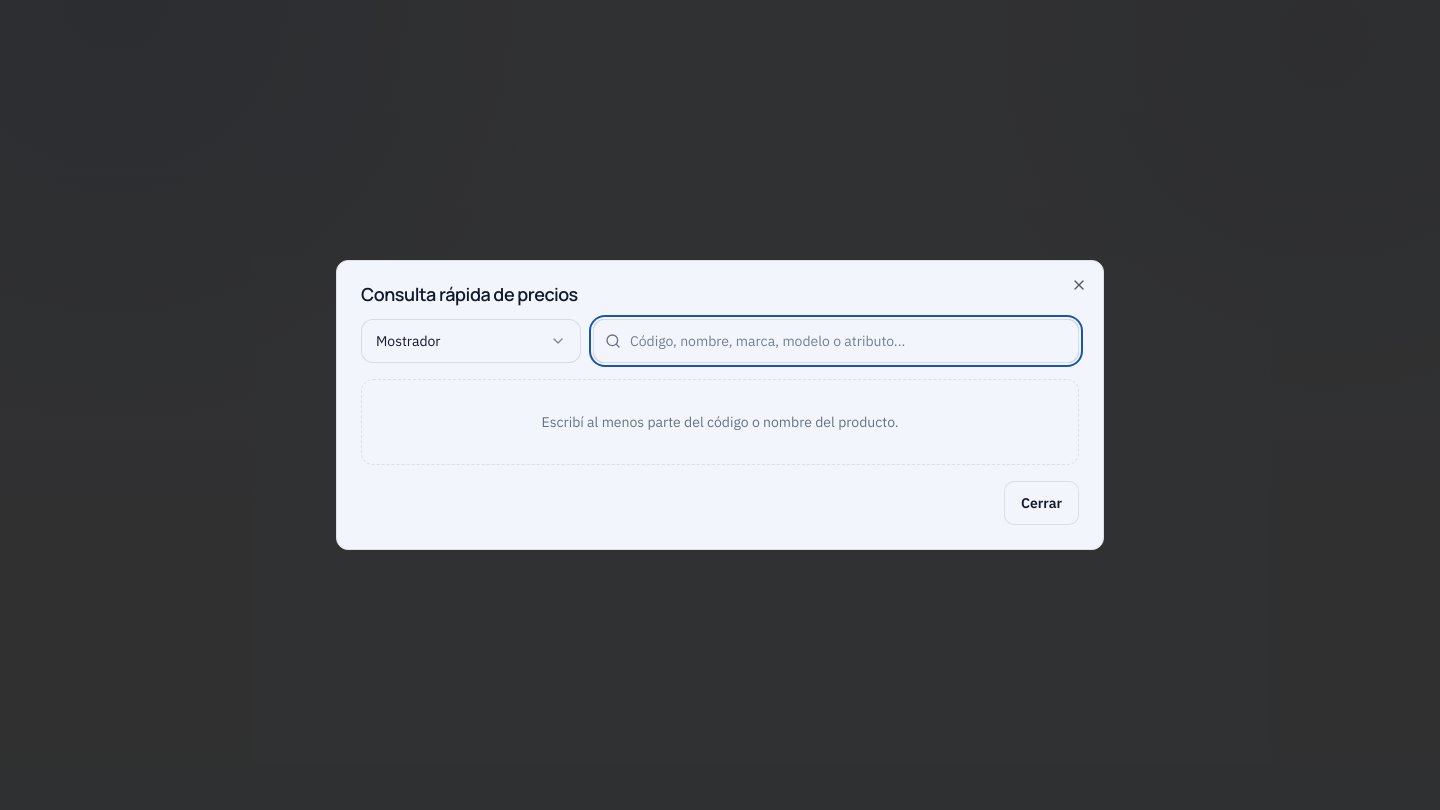
QuickPriceConsultationDialog › only shows matching products from the selected list with operational data
Expected: the text "Escribí al menos parte del código o nombre del producto." is shown, [361,379,1079,465]
Type "COR-001" into the field named "Buscar producto para consultar" at (836, 341), box [593,319,1079,363]
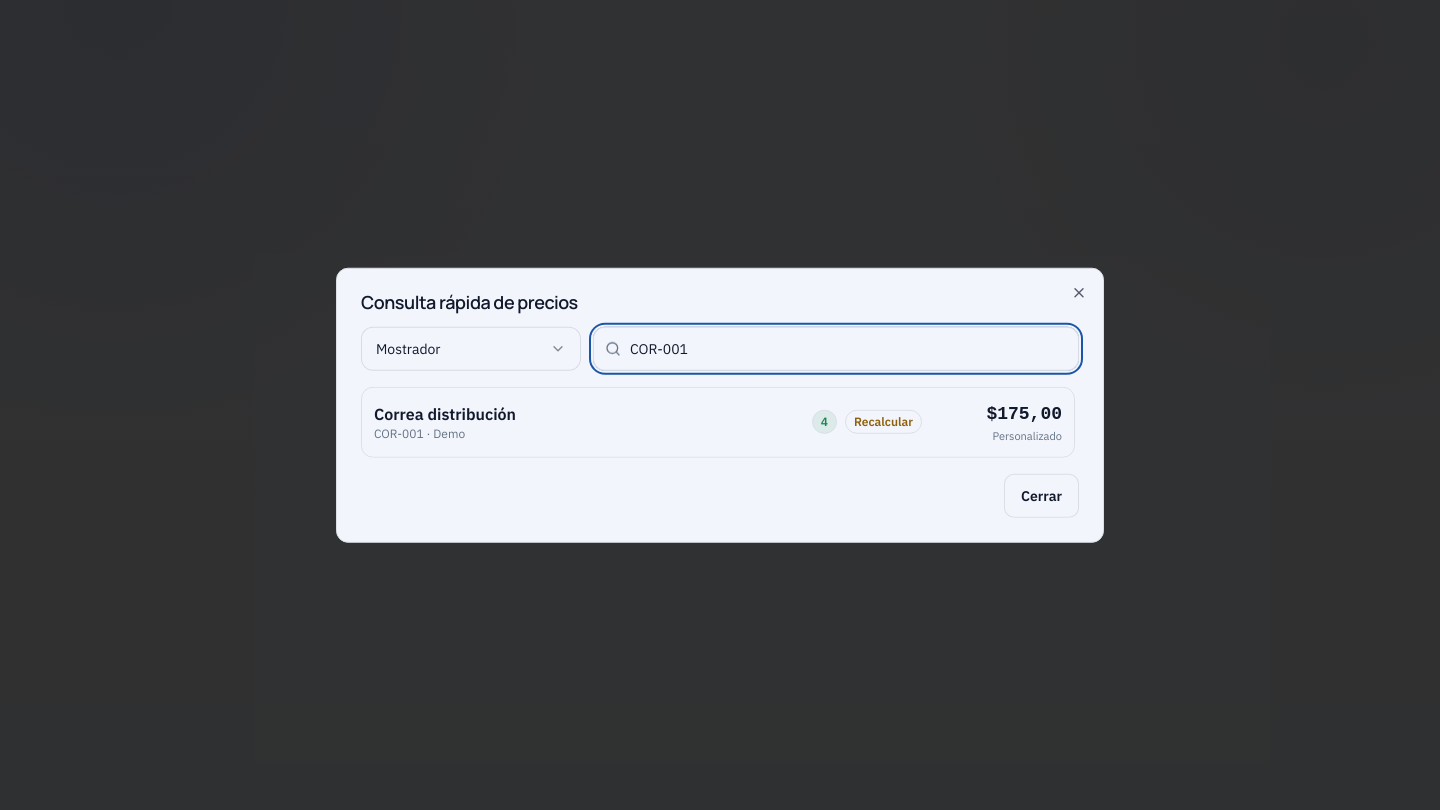
Result: the text "Correa distribución" is shown at [374,404,516,424]
Result: the text "$175,00" is shown at [986,404,1062,424]
Result: the text "Personalizado" is shown at [993,429,1062,443]
